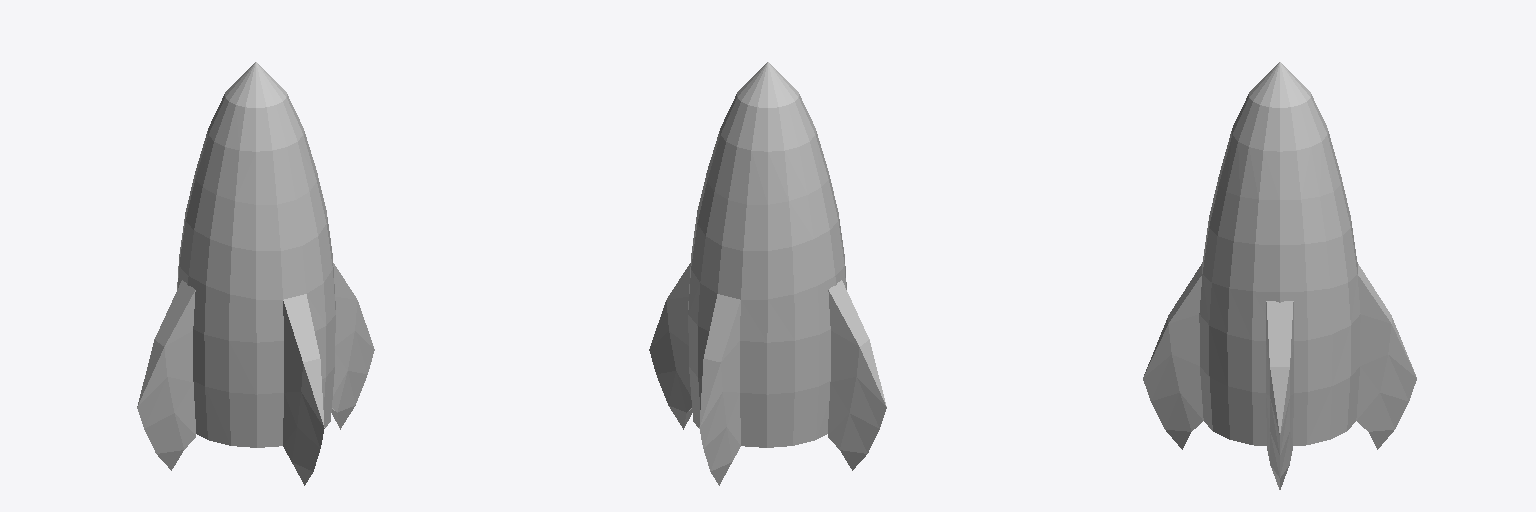
File: Missile.obj
3 renders of one model, left to right at view 1: azimuth 30°, elevation 25°; view 2: azimuth 150°, elevation 25°; view 3: azimuth 270°, elevation 25°, orthographic.
Visible parts, largest first — view 1: Object009; view 2: Object009; view 3: Object009.
Part boxes in pixels (bbox=[...]): Object009: bbox=[137, 62, 374, 485]; Object009: bbox=[649, 62, 886, 485]; Object009: bbox=[1143, 62, 1416, 489].
Bounding box in the file's own units: 42.47 × 66.36 × 42.47.